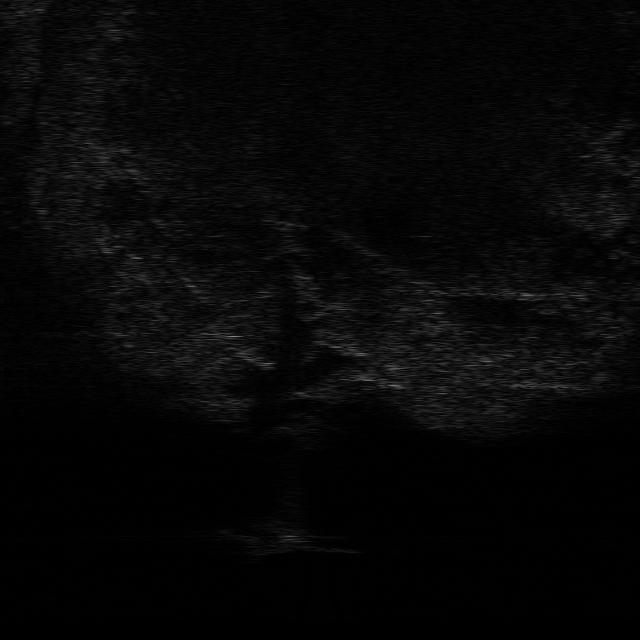plane: (218, 522, 362, 558)
